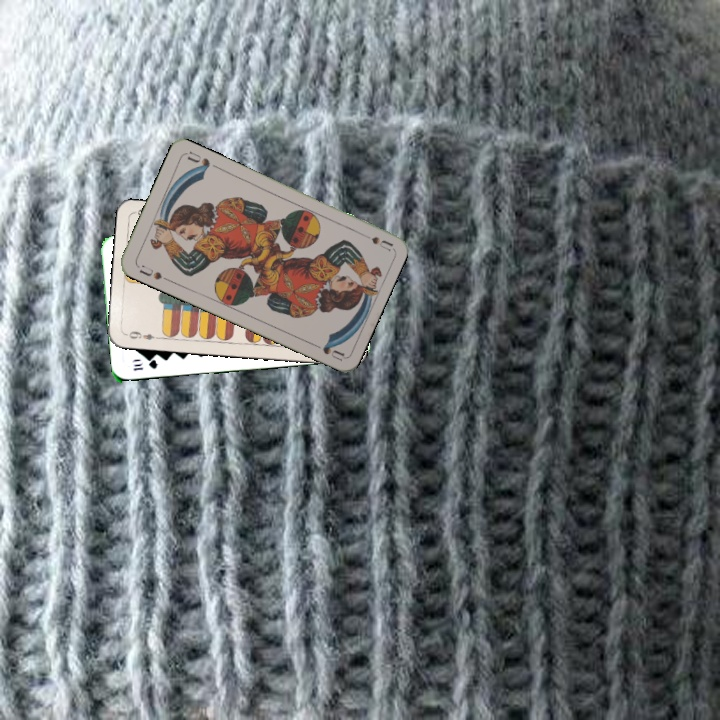E9: (122, 327, 162, 343)
G10: (129, 356, 160, 373)
SU: (355, 228, 395, 253), (135, 261, 172, 284)
